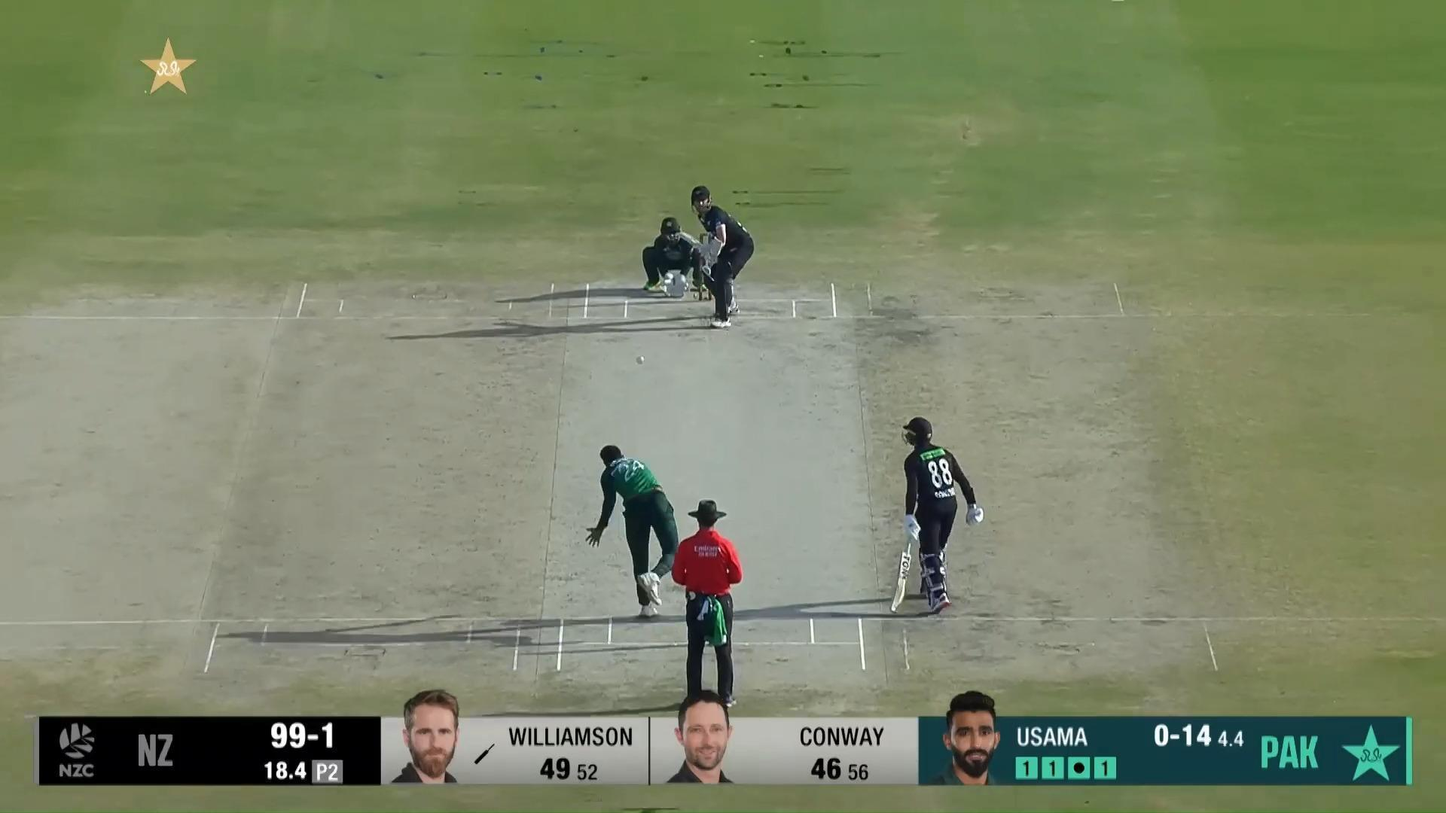BM 1: (677, 185, 755, 329)
BO: (585, 442, 680, 618)
